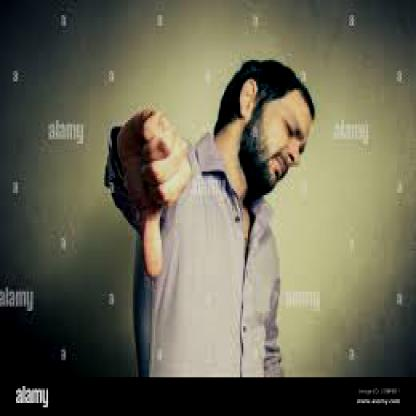Thumbs Down: (127, 112, 189, 278)
